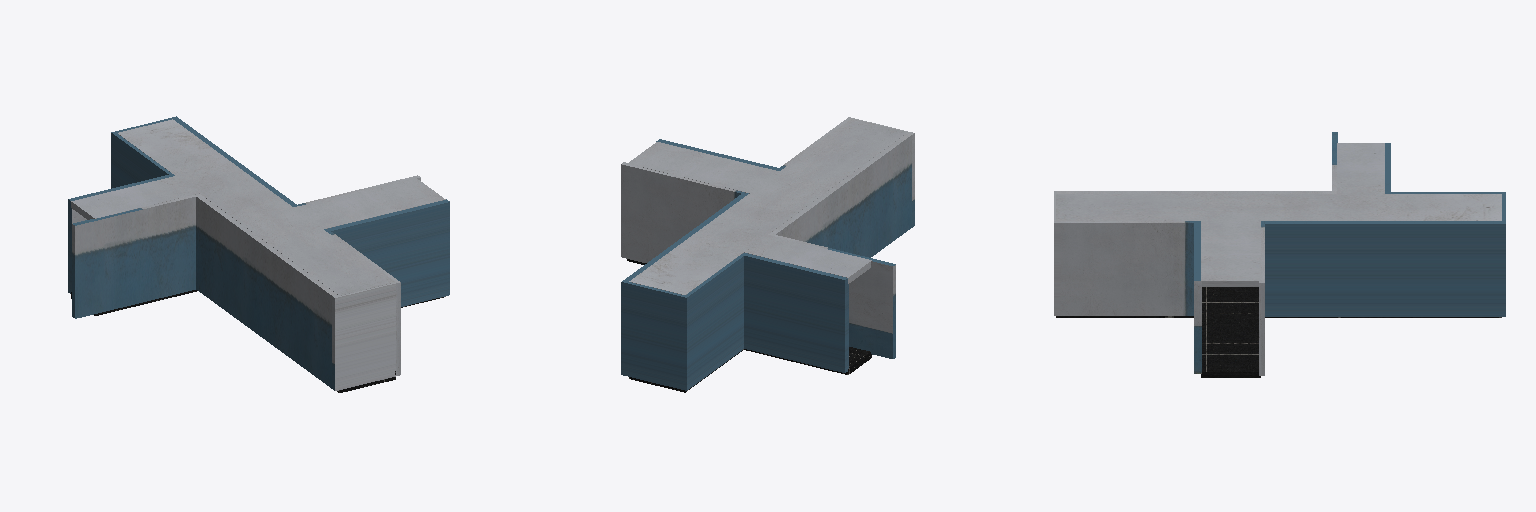
The picture shows the model from 3 angles: view 1: azimuth 30°, elevation 25°; view 2: azimuth 150°, elevation 25°; view 3: azimuth 270°, elevation 25°; orthographic projection.
Visible parts, largest first — view 1: Wall.005_Cube.017; view 2: Wall.005_Cube.017; view 3: Wall.005_Cube.017.
Boxes of the visible parts, <box> form: Wall.005_Cube.017: <box>68,116,449,392</box>; Wall.005_Cube.017: <box>621,117,914,392</box>; Wall.005_Cube.017: <box>1054,132,1505,377</box>.
Bounding box in the file's own units: 30.16 × 9.1 × 38.22.
2 materials, 2 textured.